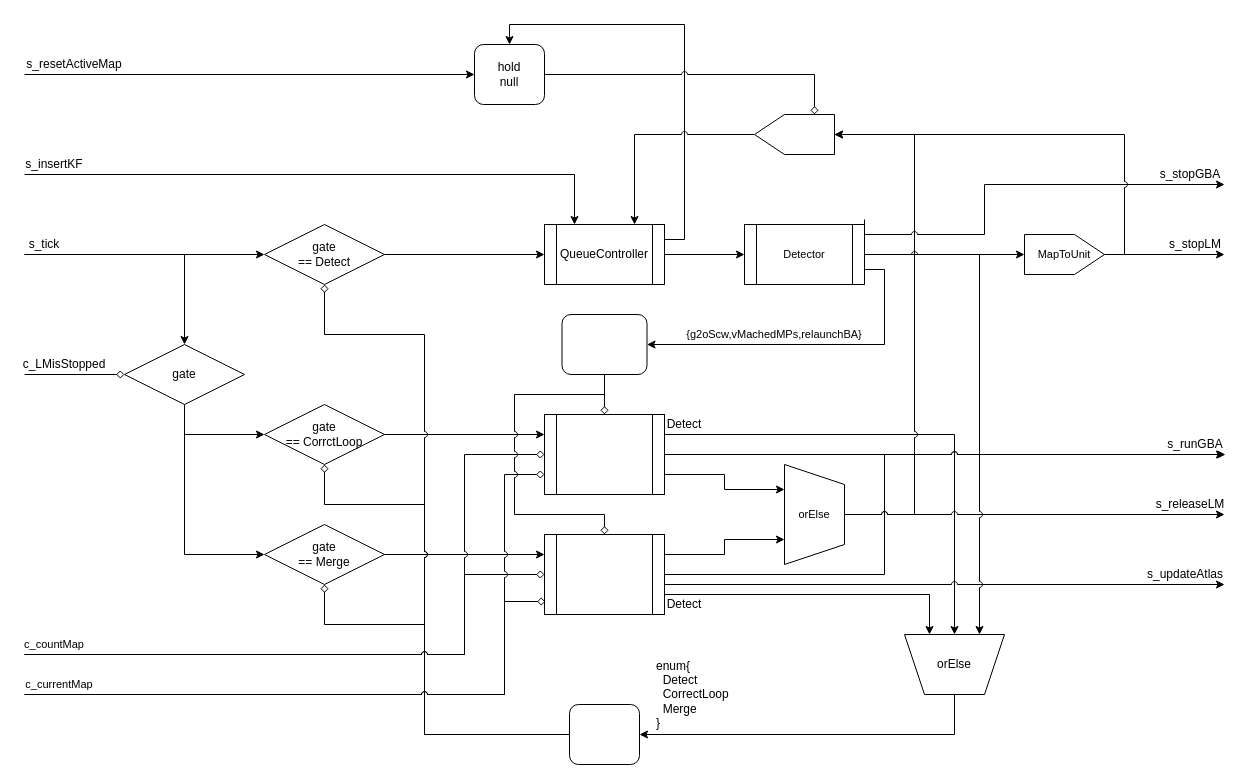
Some shapes in this 1251 by 782 pixel diagram are drawn without their labels. The box of each missing label's shape, as (x1, y1, x2, y2) in pixels:
CorrectoLoop: (544, 414, 664, 494)
hold: (561, 314, 647, 374)
hold Detect: (568, 704, 640, 764)
Merge: (544, 534, 664, 614)
snapshot: (754, 114, 834, 154)
